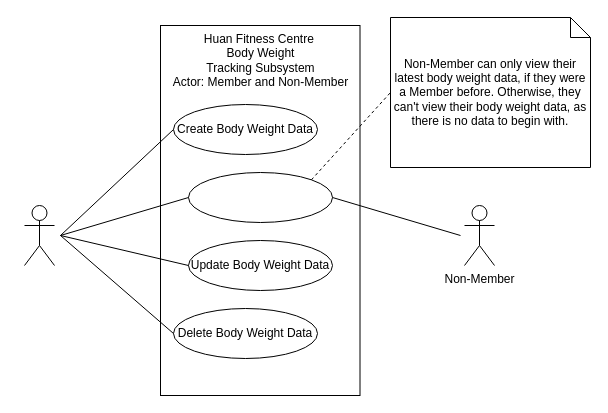
This 608x413 diagram has some shape labels left out. The box of each missing label's shape, as (x1, y1, x2, y2) in pixels:
Member: (24, 204, 54, 266)
View Body Weight Data: (188, 172, 332, 222)
